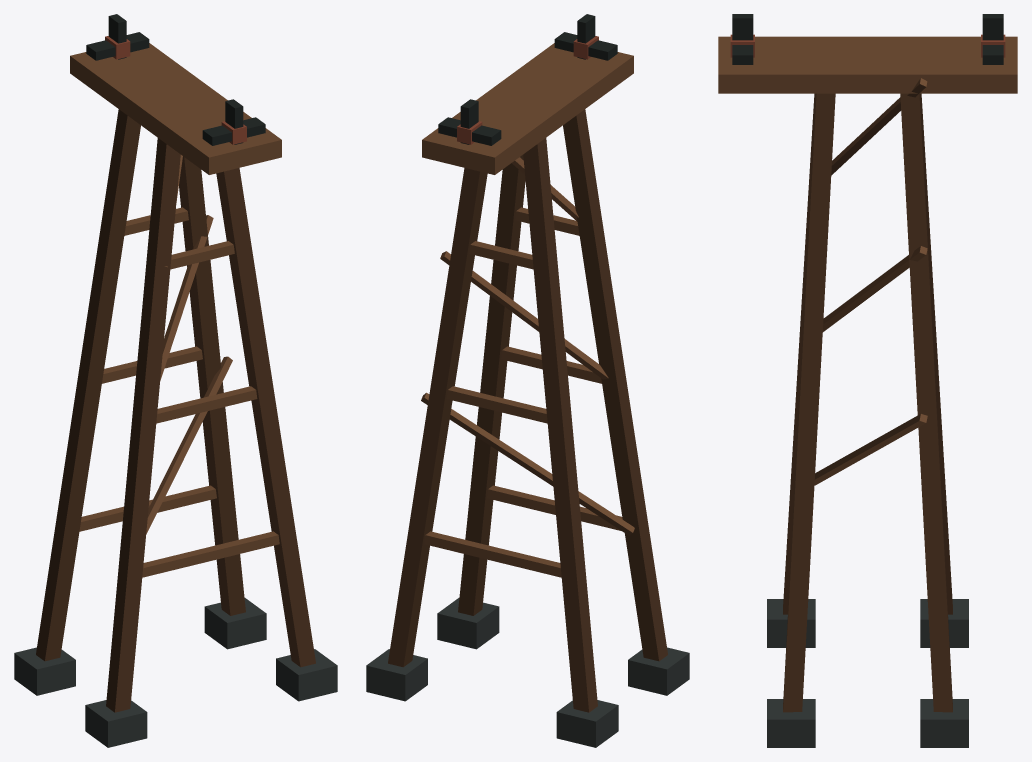
Rendered from w3_tram_tower.glb.
3 renders of one model, left to right at view 1: azimuth 30°, elevation 25°; view 2: azimuth 150°, elevation 25°; view 3: azimuth 270°, elevation 25°, orthographic. The views are drawn at different scales.
Visible parts, largest first — view 1: TramTower; view 2: TramTower; view 3: TramTower.
Boxes of the visible parts, left/top/right/bottom form: TramTower: left=14, top=14, right=337, bottom=747; TramTower: left=366, top=14, right=689, bottom=747; TramTower: left=718, top=14, right=1017, bottom=747.
Bounding box in the file's own units: 8.2 × 21.3 × 8.6.
